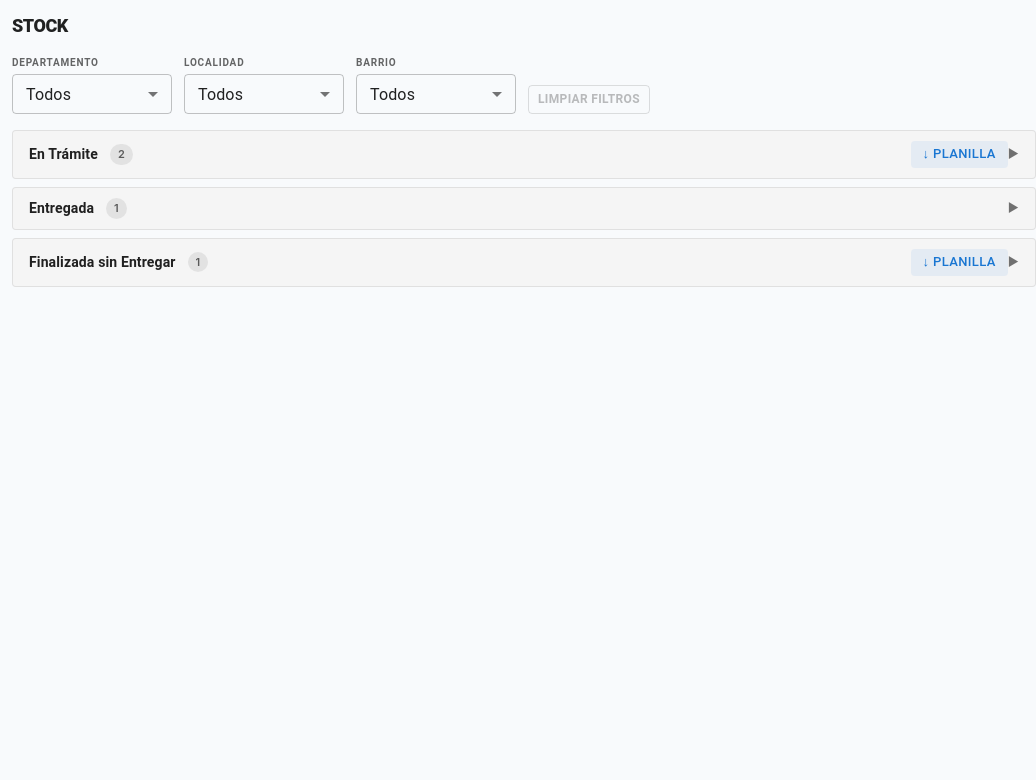
Scenario: StockTab grid (P4a) › renders one DataGrid per expanded accordion group with all declared columns
This screenshot has width=1036, height=780.
Step 1. Click the text "En Trámite" → point(63, 154), box [29, 144, 98, 165]
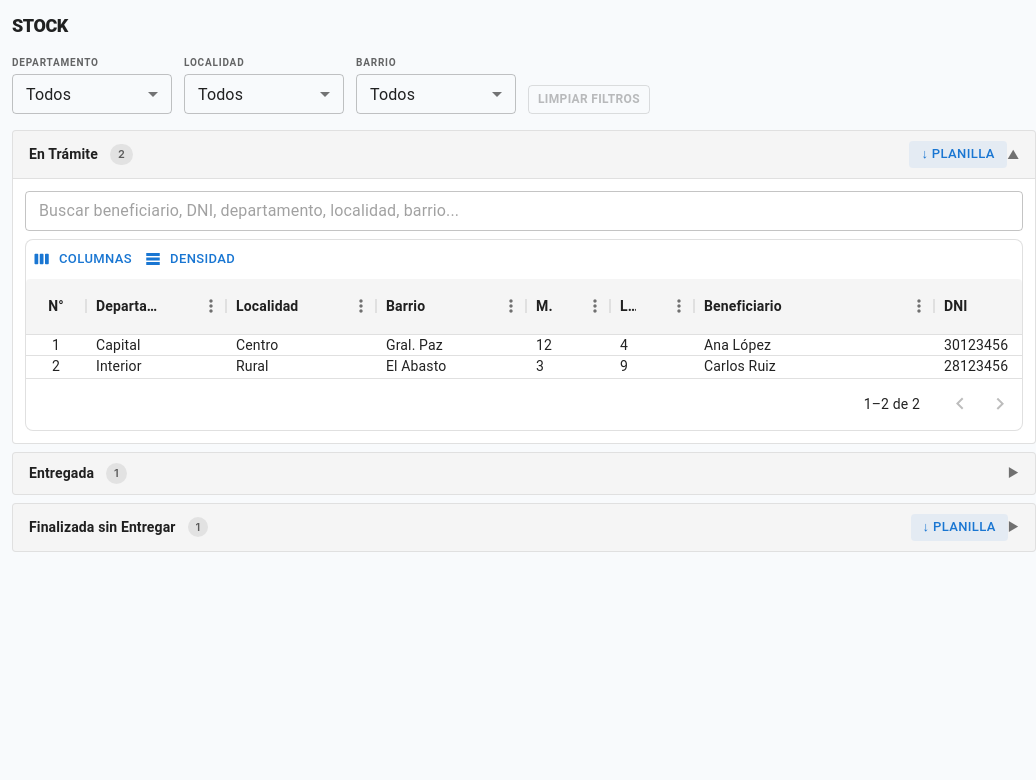
Expected: the text "N°" is shown, [48, 298, 64, 314]
Expected: the text "Beneficiario" is shown, [704, 298, 782, 314]
Expected: the text "DNI" is shown, [944, 298, 968, 314]
